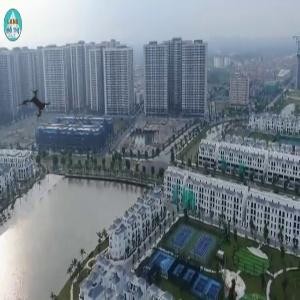drone: (8, 77, 66, 135)
